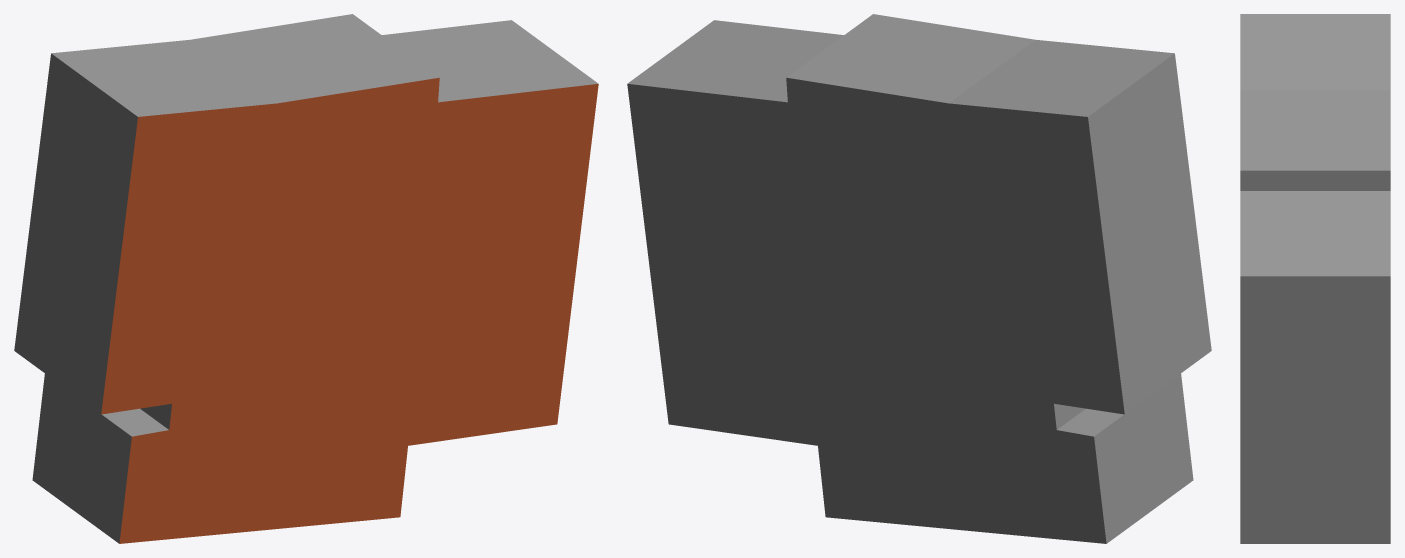
Rendered from construction_3420_assumed_A_Casa_h6m.obj.
The picture shows the model from 3 angles, left to right: view 1: azimuth 30°, elevation 25°; view 2: azimuth 150°, elevation 25°; view 3: azimuth 270°, elevation 25°; orthographic projection. The views are drawn at different scales.
Parts seen in each view (by area): view 1: construction_3420_assumed_A_Casa; view 2: construction_3420_assumed_A_Casa; view 3: construction_3420_assumed_A_Casa.
Boxes of the visible parts, x1,y1,x2,y2 form: construction_3420_assumed_A_Casa: (14, 14, 598, 543); construction_3420_assumed_A_Casa: (627, 14, 1211, 543); construction_3420_assumed_A_Casa: (1240, 14, 1390, 543).
Bounding box in the file's own units: 19.82 × 17.67 × 6.
